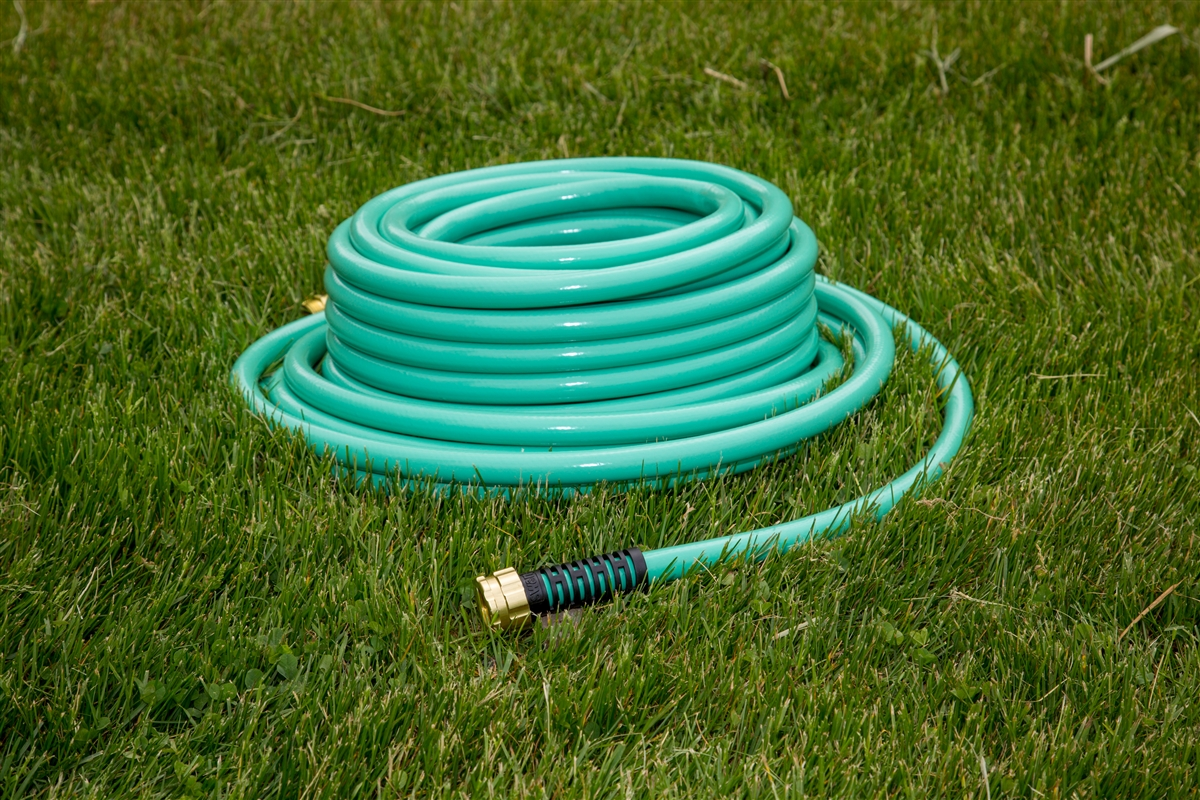Nonrec_Tangler: (225, 148, 999, 590)
